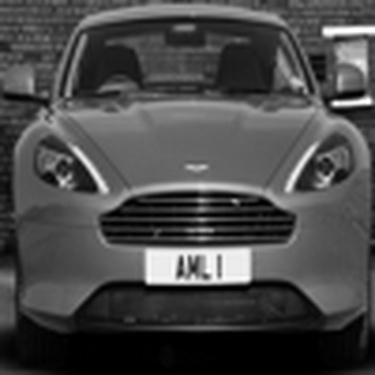car: (2, 4, 370, 369)
